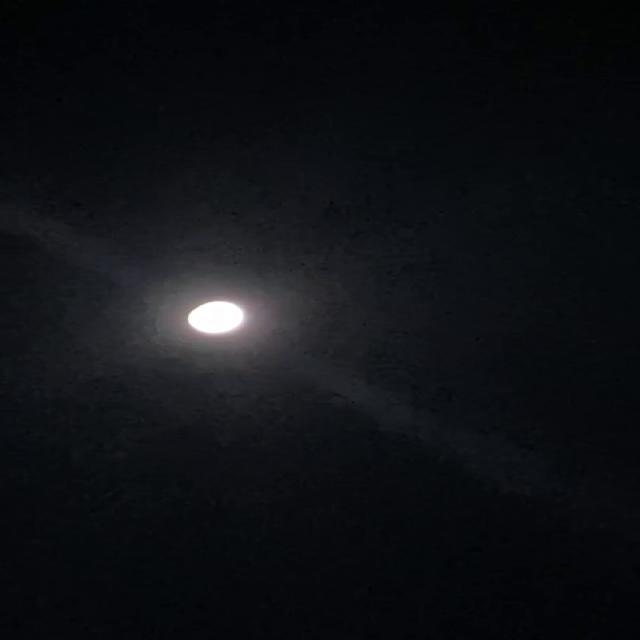moon: (174, 298, 252, 340)
